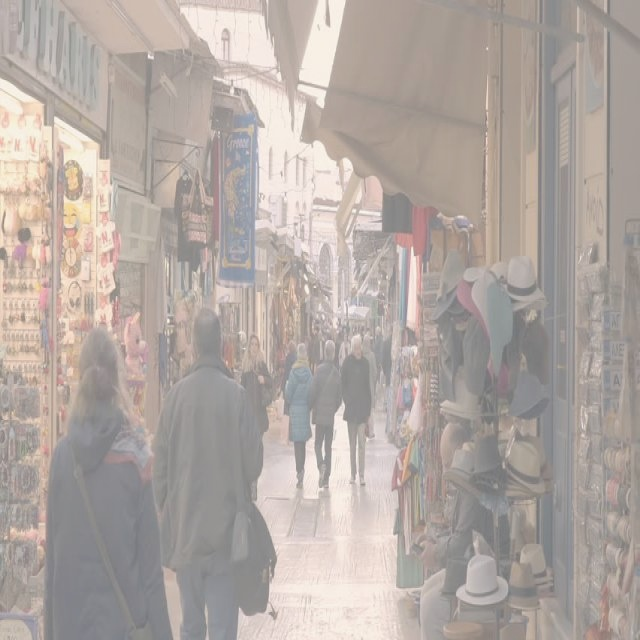pessoa: (36, 318, 178, 638), (148, 305, 266, 639), (238, 330, 274, 502), (308, 338, 344, 491), (338, 331, 372, 486), (283, 338, 315, 486), (360, 332, 378, 440), (306, 314, 334, 374), (369, 322, 387, 410), (381, 321, 394, 436), (280, 341, 298, 418), (342, 324, 372, 342), (338, 332, 352, 369), (333, 324, 342, 369)
